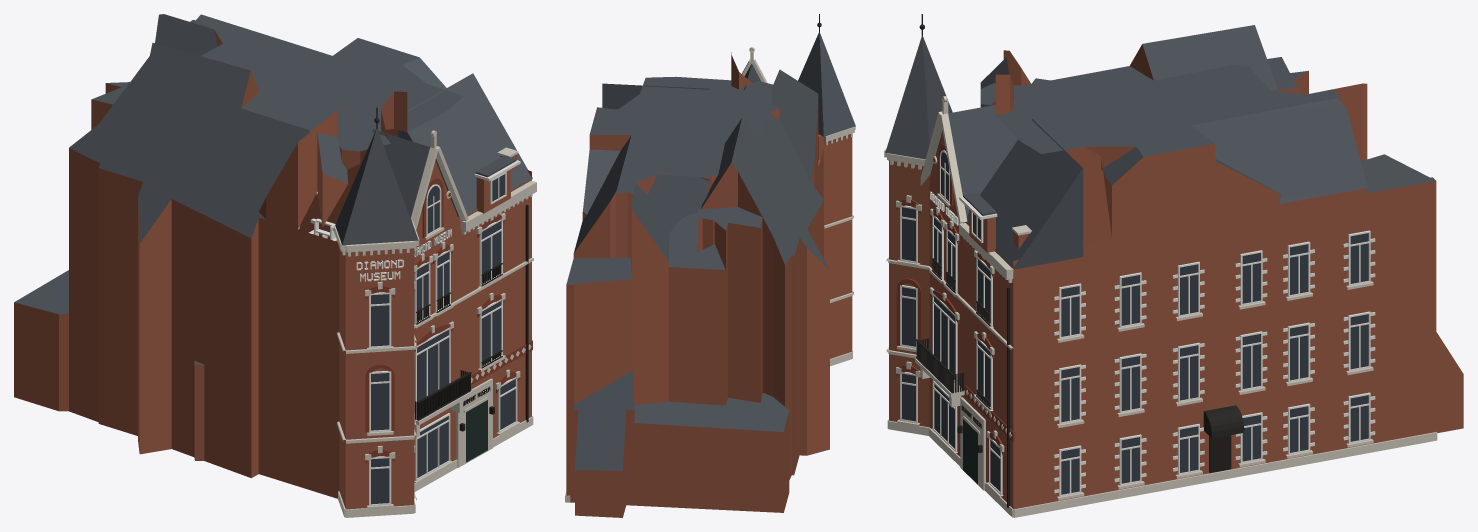
Rendered from diamant-museum.glb.
3 views of the same model, side by side, from view 1: azimuth 30°, elevation 25°; view 2: azimuth 150°, elevation 25°; view 3: azimuth 270°, elevation 25° (orthographic). The views are drawn at different scales.
Parts seen in each view (by area): view 1: diamant-museum; view 2: diamant-museum; view 3: diamant-museum.
Part boxes in pixels (<box>): diamant-museum: <box>14,14,536,517</box>; diamant-museum: <box>565,14,855,517</box>; diamant-museum: <box>884,14,1463,517</box>.
Size of the model in its own units: 18.03 by 18.95 by 24.63.
